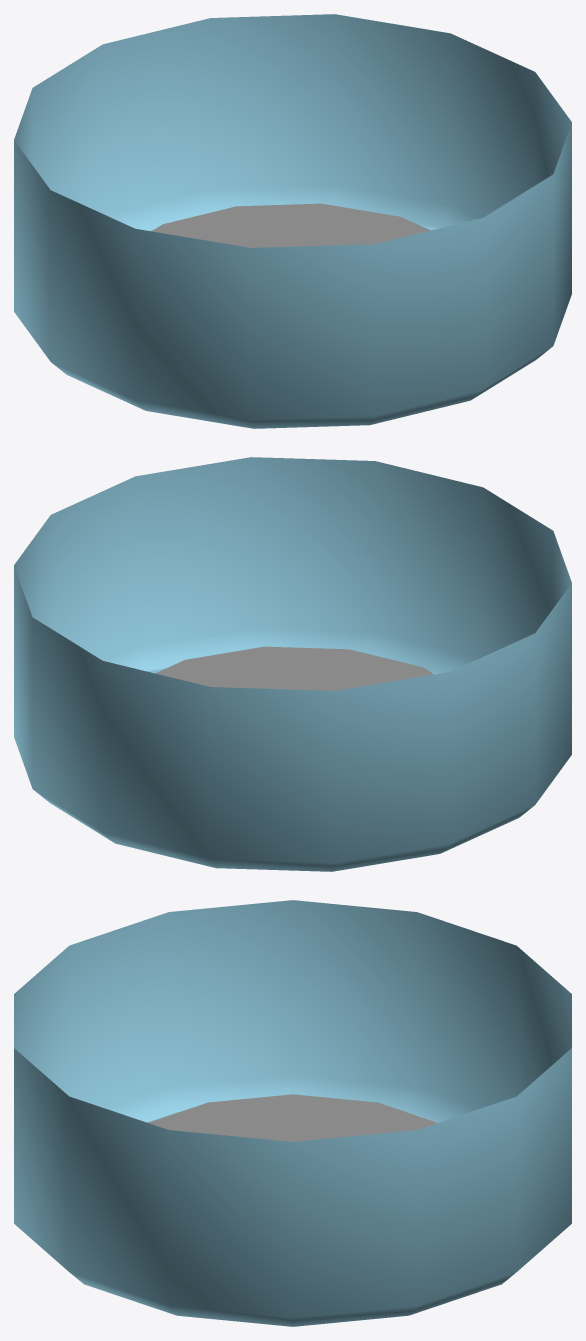
The model's file is PROPS_spotLight_01.FBX.
The picture shows the model from 3 angles, top to bottom: view 1: azimuth 30°, elevation 25°; view 2: azimuth 150°, elevation 25°; view 3: azimuth 270°, elevation 25°; orthographic projection. The views are drawn at different scales.
Visible parts, largest first — view 1: PROPS_spotLight_01; view 2: PROPS_spotLight_01; view 3: PROPS_spotLight_01.
Boxes of the visible parts, x1,y1,x2,y2 form: PROPS_spotLight_01: (14, 14, 571, 428); PROPS_spotLight_01: (14, 457, 571, 871); PROPS_spotLight_01: (14, 900, 571, 1326).
Size of the model in its own units: 20.19 by 7.51 by 19.68.
